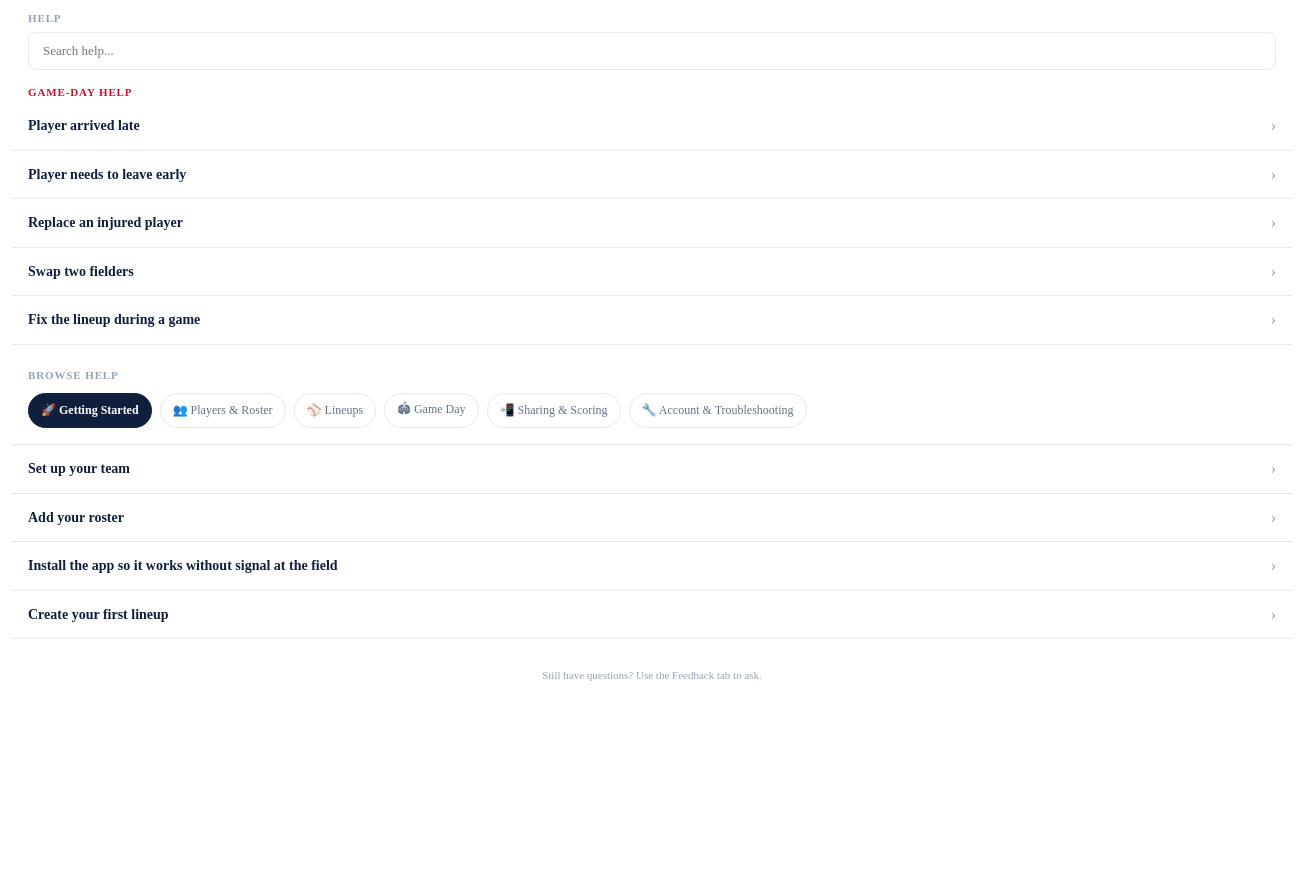
FAQSection — Help redesign › search › H9: typing a query hides Game-Day Help / Browse Help and shows matching results across categories
In the search field with placeholder "Search help...": [652, 51] box top-left (28, 32), bottom-right (1276, 70), type "Sign"
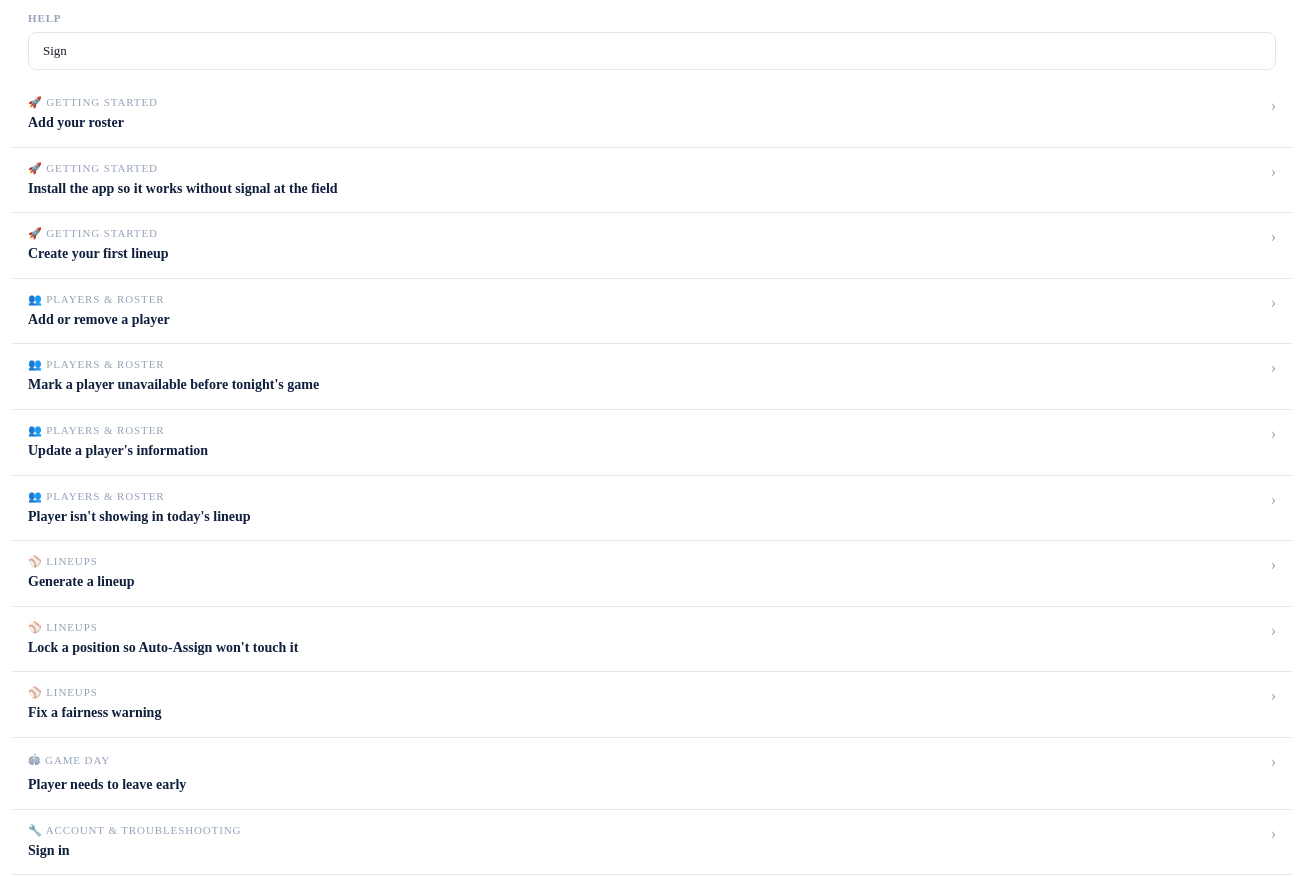
Now the text "Game-Day Help" is gone
Now the text "Browse Help" is gone
Now the text "Sign in" is shown, box top-left (28, 842), bottom-right (70, 858)
